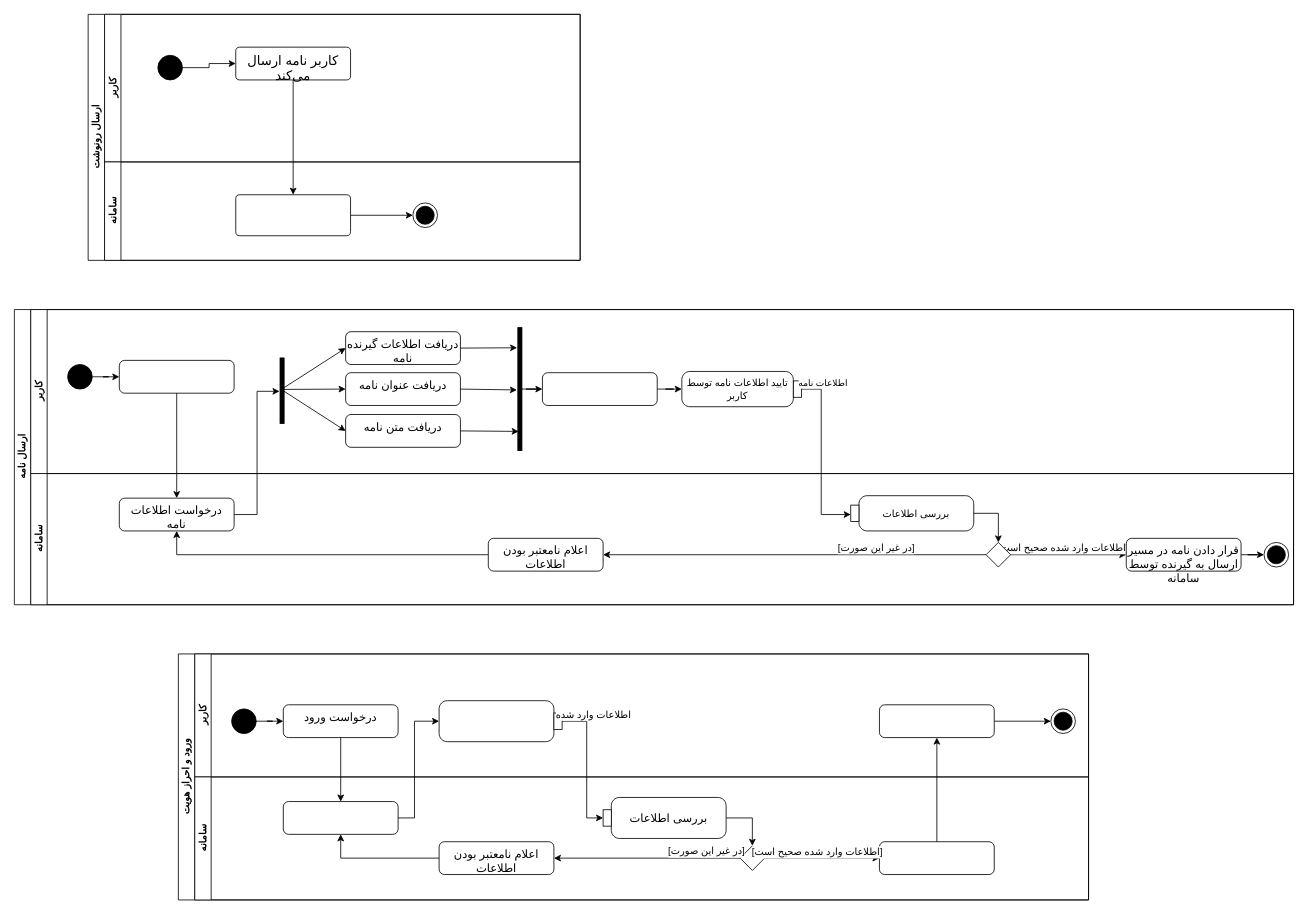
Image size: 1308x914. Some labels were removed from this diagram. The shapes that lost their labels are listed below. From the top down, each one's centre as x and y in pixels, then its label:
the point at 293,215: سامانه کاربر را از سامانه خارج می‌کند
the point at 176,376: درخواست ارسال نامه جدید
the point at 599,388: ارسال رونوشتی از نامه
the point at 500,721: وارد کردن اطلاعات
the point at 936,721: ورود کاربر به سامانه
the point at 340,817: درخواست اطلاعات برای ورود
the point at 936,858: تایید اطلاعات توسط سامانه
